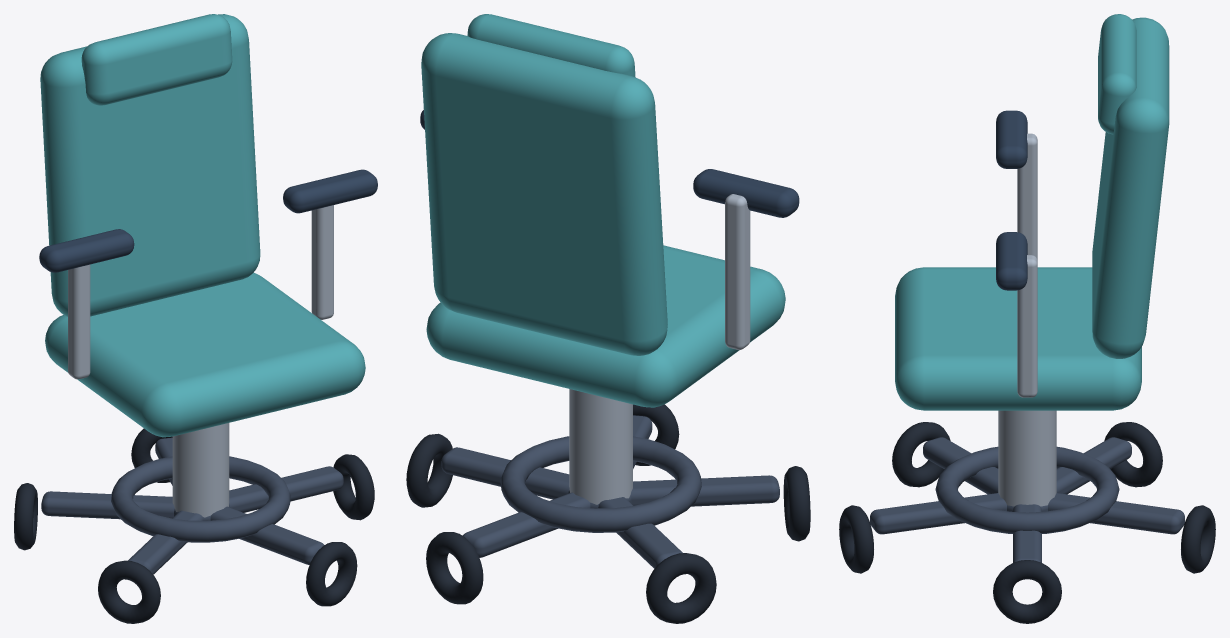
The model's file is office-chair.glb.
The picture shows the model from 3 angles, left to right: view 1: azimuth 30°, elevation 25°; view 2: azimuth 150°, elevation 25°; view 3: azimuth 270°, elevation 25°; orthographic projection. The views are drawn at different scales.
Parts seen in each view (by area): view 1: fabric, powder-coated-metal, brushed-aluminum, rubber, soft-touch-plastic; view 2: fabric, powder-coated-metal, rubber, brushed-aluminum, soft-touch-plastic; view 3: fabric, powder-coated-metal, rubber, brushed-aluminum, soft-touch-plastic.
Part boxes in pixels (box(x1,y1,x2,y2)): fabric: box(40, 14, 365, 437); powder-coated-metal: box(41, 437, 343, 574); brushed-aluminum: box(68, 205, 333, 517); rubber: box(14, 428, 374, 623); soft-touch-plastic: box(39, 169, 377, 272); fabric: box(421, 14, 785, 407); powder-coated-metal: box(441, 415, 779, 568); rubber: box(406, 404, 810, 623); brushed-aluminum: box(569, 194, 750, 504); soft-touch-plastic: box(420, 110, 799, 217); fabric: box(895, 14, 1169, 410); powder-coated-metal: box(870, 437, 1184, 562); rubber: box(839, 422, 1215, 623); brushed-aluminum: box(998, 133, 1056, 506); soft-touch-plastic: box(996, 110, 1027, 290).
Size of the model in its own units: 0.87 by 1.24 by 0.8388.
